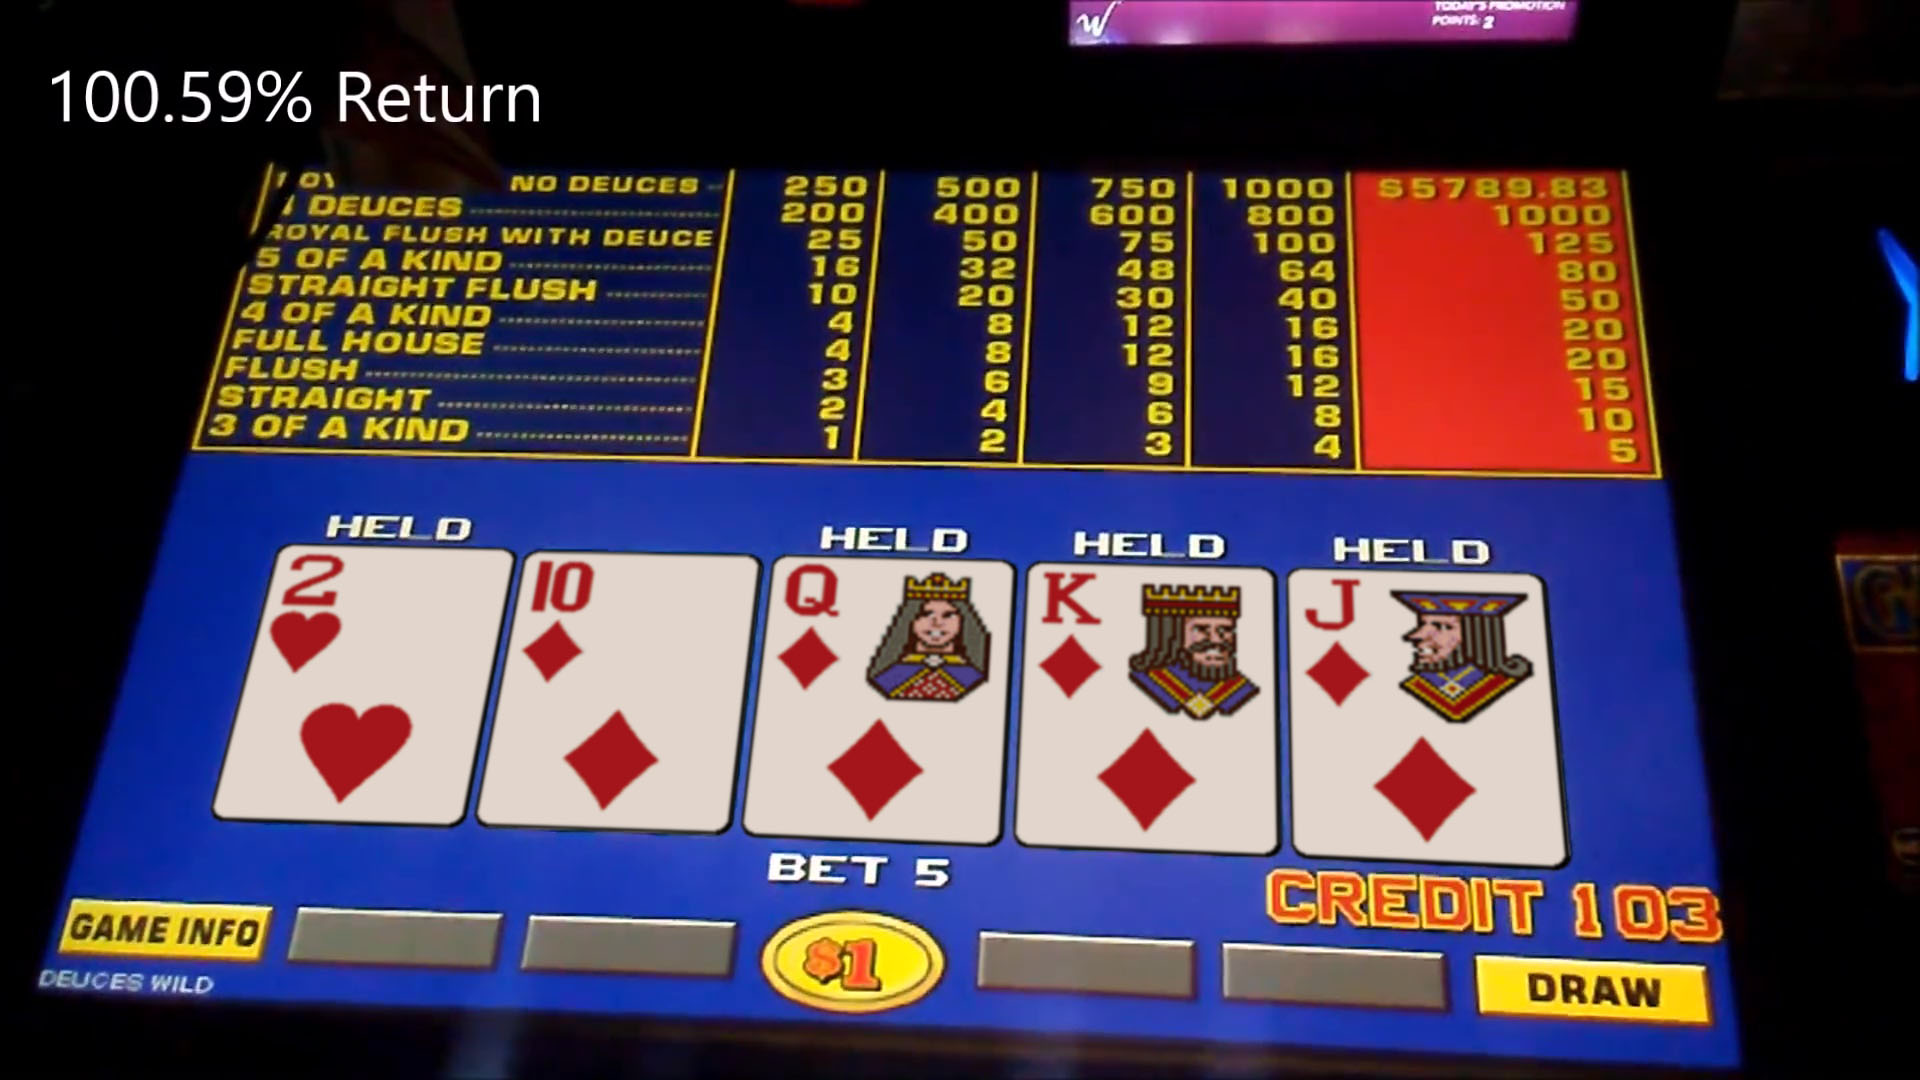DJ: (1294, 575, 1553, 855)
DK: (1029, 564, 1270, 853)
DQ: (771, 558, 997, 843)
DT: (522, 553, 735, 828)
H2: (265, 549, 472, 819)
